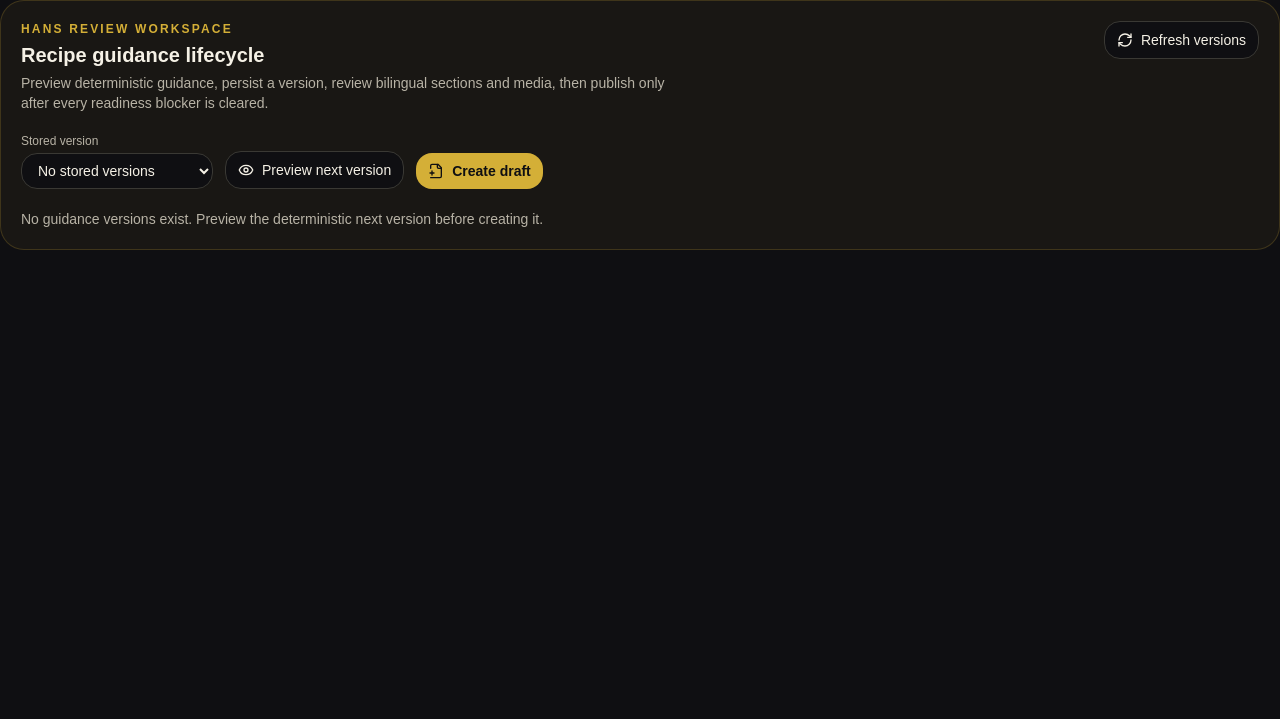
Test: recipe guidance UI › previews and explicitly persists the next admin draft
Expected: the text "No guidance versions exist." is shown, [21, 211, 543, 227]
Click the button "Preview next version".
click(315, 170)  # box [225, 151, 404, 189]
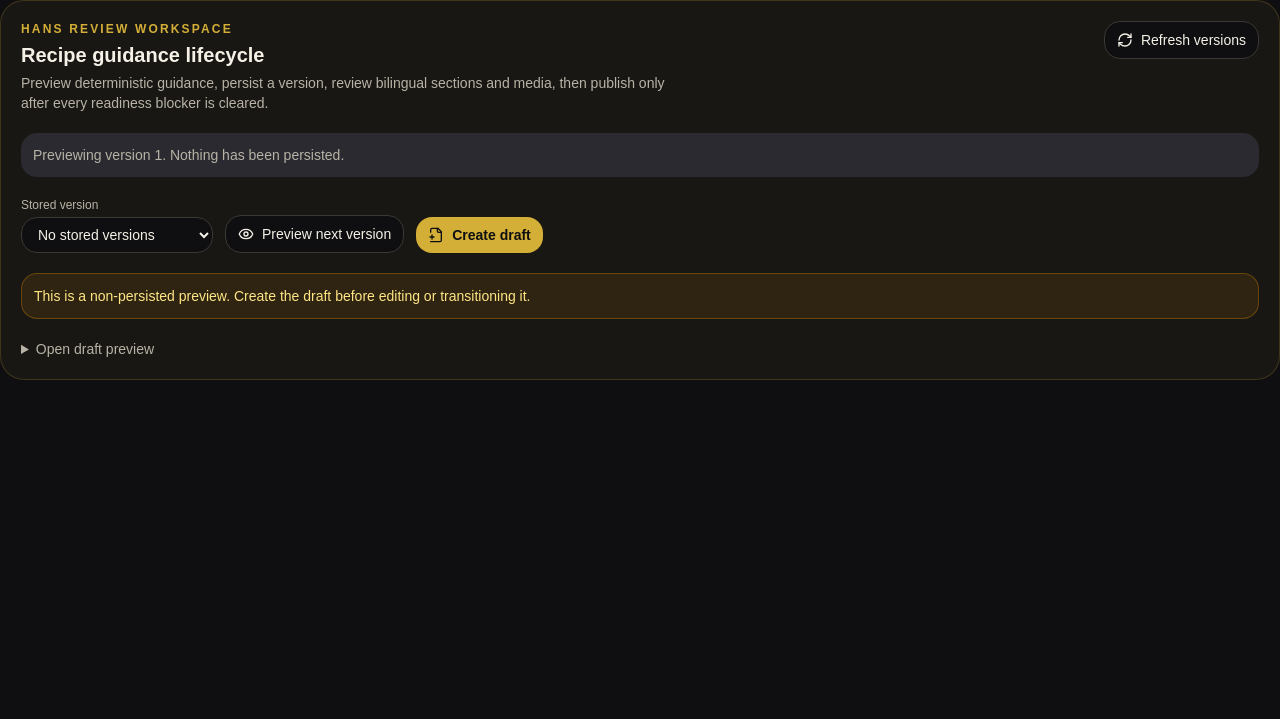
Expected: the text "This is a non-persisted preview." is shown, [34, 288, 530, 304]
Click the button "Create draft".
click(480, 235)  # box [416, 217, 543, 253]
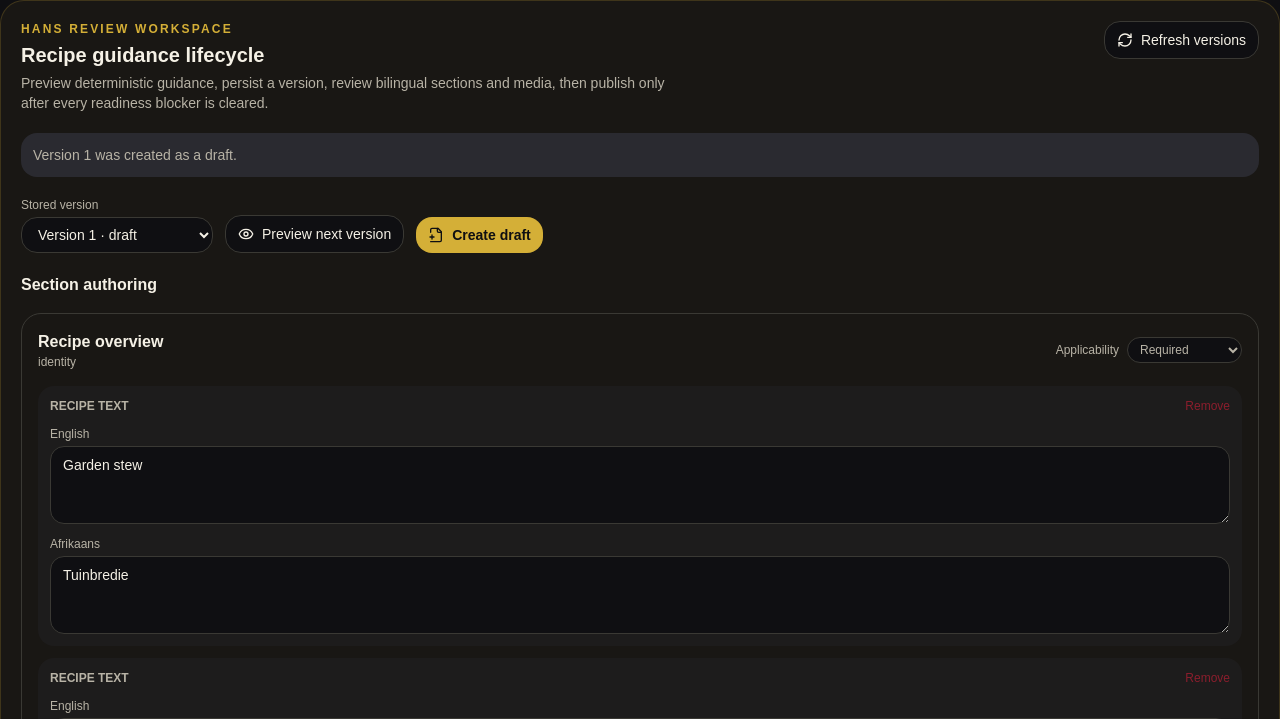
Expected: the dropdown labelled "Stored version" shows "Version 1 · draft", [21, 217, 213, 253]
Expected: the text "Version 1 was created as a draft." is shown, [21, 133, 1259, 177]
